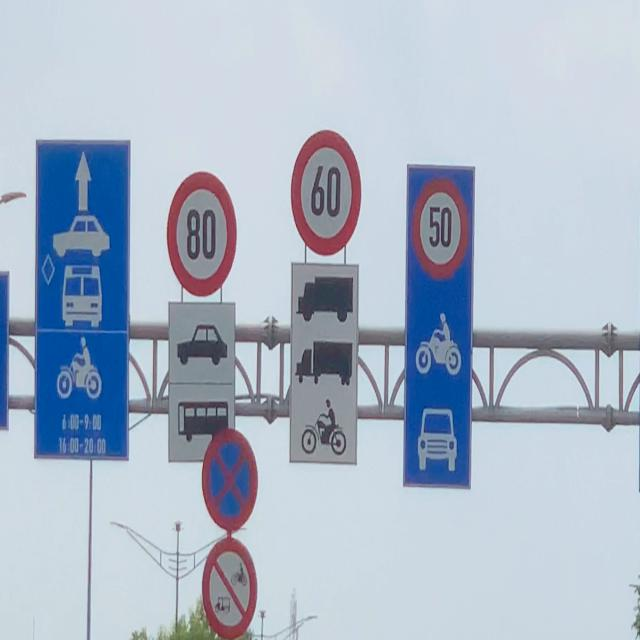Cam con lai: (200, 535, 259, 640)
Cam dung va do: (199, 424, 260, 534)
Toc do toi da: (287, 117, 367, 257), (163, 162, 240, 299), (409, 172, 471, 284)
